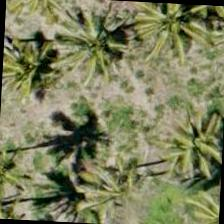Kelapa_Sawit: (46, 3, 142, 98), (120, 0, 214, 84), (58, 148, 154, 223), (0, 21, 75, 116), (164, 88, 223, 183), (0, 127, 54, 221)
